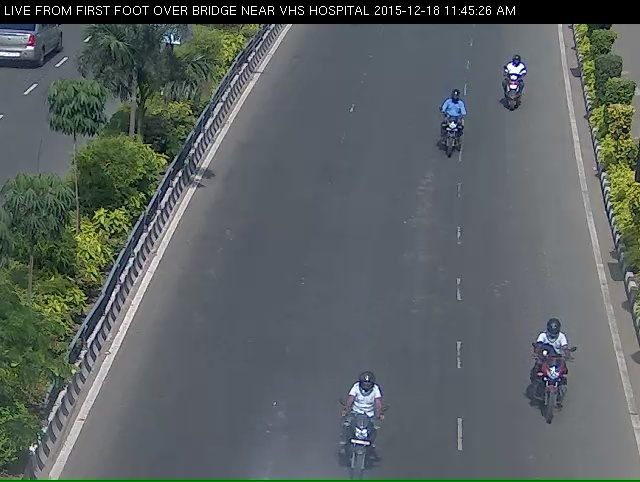Person: (524, 341, 584, 460), (337, 410, 392, 479), (436, 95, 473, 173), (505, 58, 530, 124)
